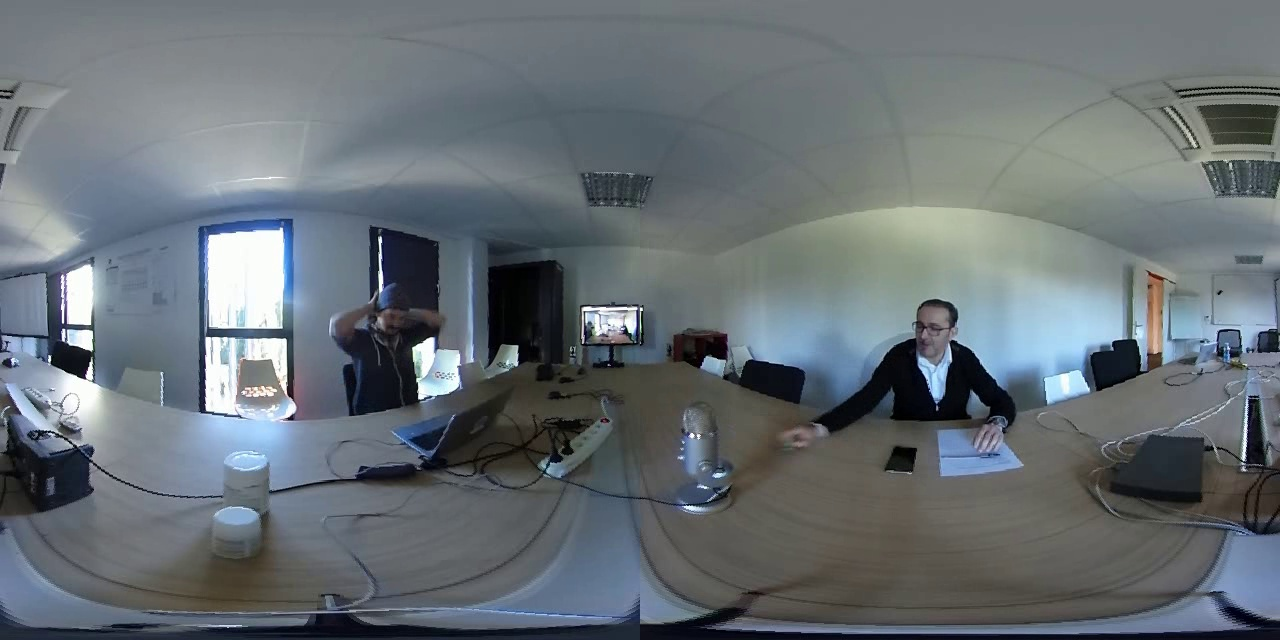person: (840, 277, 1020, 459), (323, 279, 455, 412)
